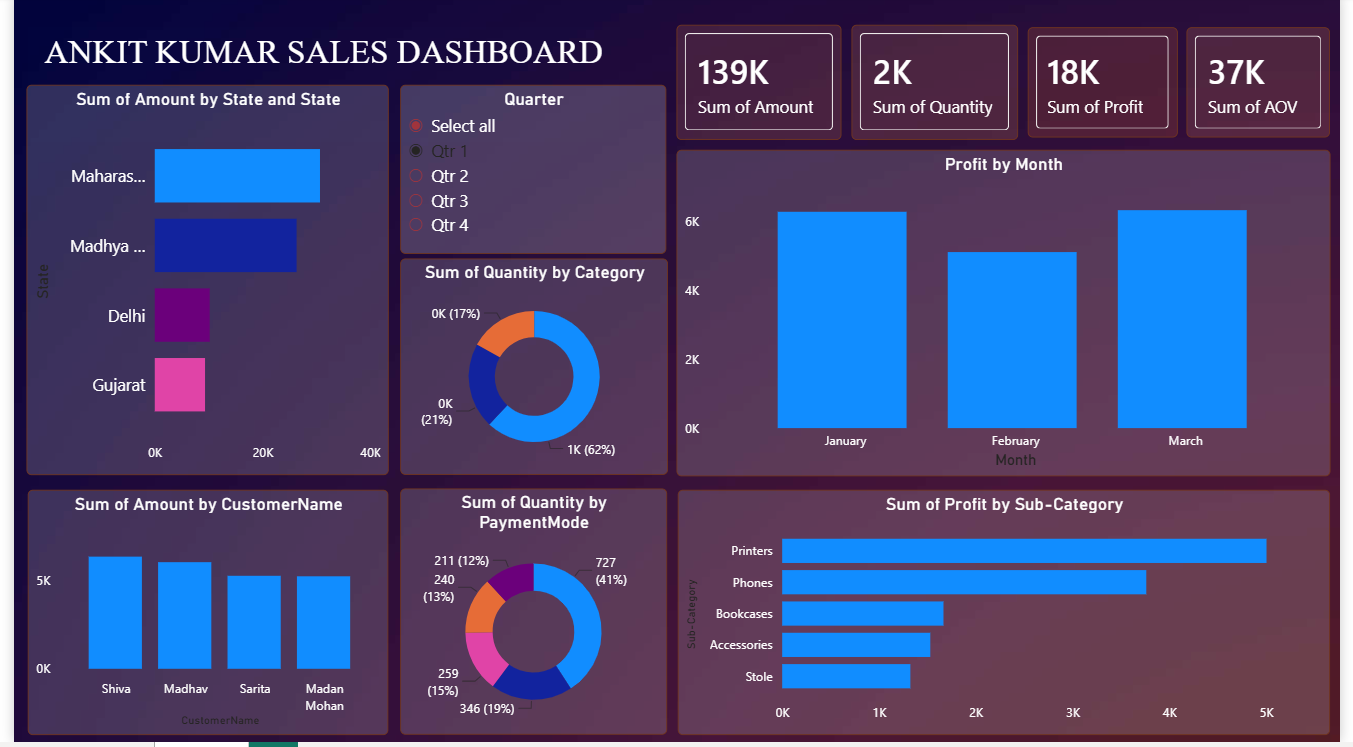

The page's visual inventory and layout, read from the dashboard file:
{"tool":"powerbi","page":{"name":"Page 1","canvas":[1280,720],"ordinal":0},"visuals":[{"type":"textbox","box":[13.3,30.3,571.5,110.4],"z":0},{"type":"columnChart","title":"Profit by Month","fields":{"Y":["Sum(Details.Profit)"],"Category":["Orders.Order Date.Variation.Date Hierarchy.Month"]},"box":[639.4,148,630.9,315.5],"z":1000},{"type":"barChart","fields":{"Category":["Details.Sub-Category"],"Y":["Sum(Details.Profit)"]},"box":[640.6,476.8,629.7,236.6],"z":2000},{"type":"donutChart","fields":{"Category":["Details.Category"],"Y":["Sum(Details.Quantity)"]},"box":[372.5,253.6,258.4,208.7],"z":3000},{"type":"donutChart","fields":{"Y":["Sum(Details.Quantity)"],"Category":["Details.PaymentMode"]},"box":[372.5,475.6,257.2,237.8],"z":4000},{"type":"cardVisual","fields":{"Data":["Sum(Details.Amount)"]},"box":[606.6,30.3,180.8,110.4],"z":5000},{"type":"cardVisual","fields":{"Data":["Sum(Details.Quantity)"]},"box":[776.5,30.3,179.6,110.4],"z":6000},{"type":"cardVisual","fields":{"Data":["Sum(Details.Profit)"]},"box":[954.8,30.3,163.8,105.6],"z":7000},{"type":"cardVisual","fields":{"Data":["Sum(Details.Column)"]},"box":[1110.1,27.9,160.2,105.6],"z":8000},{"type":"barChart","fields":{"Category":["Orders.State"],"Series":["Orders.State"],"Y":["Sum(Details.Amount)"]},"box":[12.1,148,349.4,314.2],"z":9000},{"type":"columnChart","fields":{"Category":["Orders.CustomerName"],"Y":["Sum(Details.Amount)"]},"box":[13.3,476.8,348.2,236.6],"z":10000},{"type":"listSlicer","fields":{"Values":["Orders.Order Date.Variation.Date Hierarchy.Quarter"]},"box":[372.5,148,257.2,100.7],"z":11000}]}

Visuals, with their boxes in screenshot pixels (x1, y1, x2, y2), scaled from the page's 1280x720 canvas onto the 1353x747 screenshot:
textbox: [x1=14, y1=31, x2=618, y2=146]
"Profit by Month" columnChart: [x1=676, y1=154, x2=1343, y2=481]
barChart - Details.Sub-Category x Sum(Details.Profit): [x1=677, y1=495, x2=1343, y2=740]
donutChart - Details.Category x Sum(Details.Quantity): [x1=394, y1=263, x2=667, y2=480]
donutChart - Sum(Details.Quantity) x Details.PaymentMode: [x1=394, y1=493, x2=666, y2=740]
cardVisual - Sum(Details.Amount): [x1=641, y1=31, x2=832, y2=146]
cardVisual - Sum(Details.Quantity): [x1=821, y1=31, x2=1011, y2=146]
cardVisual - Sum(Details.Profit): [x1=1009, y1=31, x2=1182, y2=141]
cardVisual - Sum(Details.Column): [x1=1173, y1=29, x2=1343, y2=139]
barChart - Orders.State x Orders.State: [x1=13, y1=154, x2=382, y2=480]
columnChart - Orders.CustomerName x Sum(Details.Amount): [x1=14, y1=495, x2=382, y2=740]
listSlicer - Orders.Order Date.Variation.Date Hierarchy.Quarter: [x1=394, y1=154, x2=666, y2=258]
